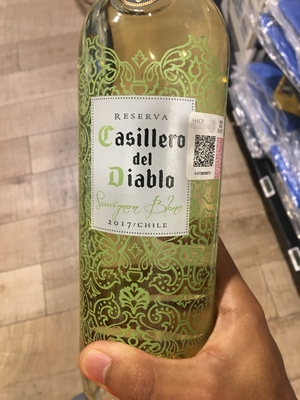casillero del diablo sauvignon blanc: (75, 2, 228, 400)
